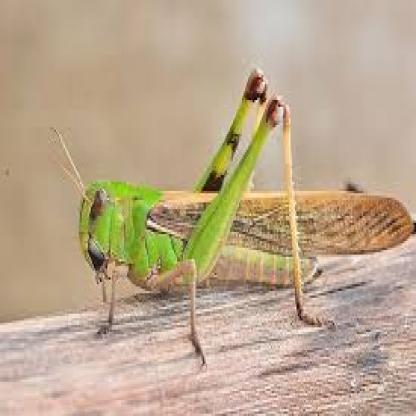grasshopper: (63, 70, 416, 359)
